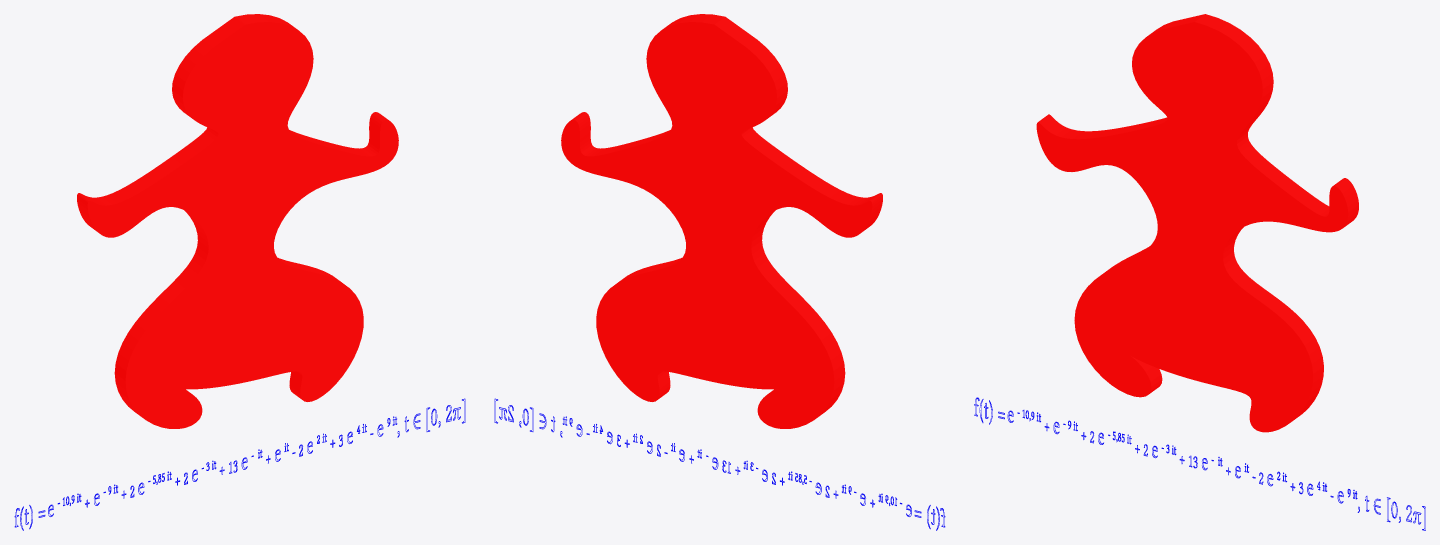
File: Let'sStart.glb
3 views of the same model, side by side, from view 1: azimuth 30°, elevation 25°; view 2: azimuth 150°, elevation 25°; view 3: azimuth 330°, elevation 25° (orthographic).
Size of the model in its own units: 1.2 by 1.16 by 0.05.
